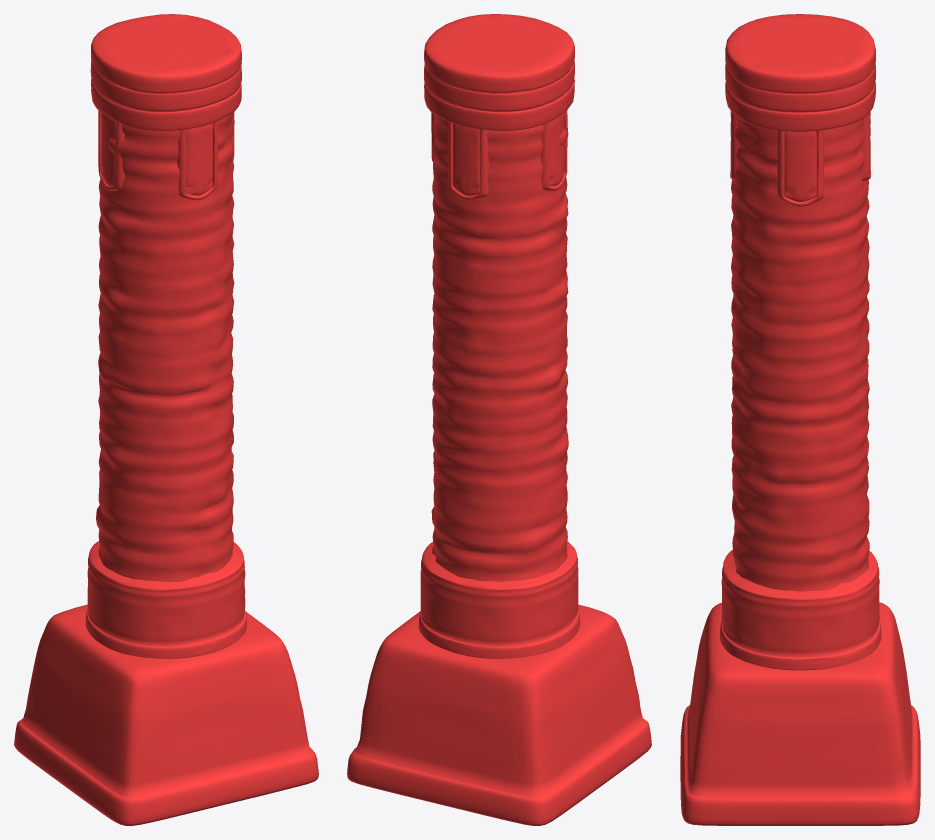
File: pillar.FBX
The picture shows the model from 3 angles, left to right: view 1: azimuth 30°, elevation 25°; view 2: azimuth 150°, elevation 25°; view 3: azimuth 270°, elevation 25°; orthographic projection.
Visible parts, largest first — view 1: pillar; view 2: pillar; view 3: pillar.
Part boxes in pixels (left/top/right/bottom): pillar: left=14, top=14, right=318, bottom=825; pillar: left=347, top=14, right=651, bottom=825; pillar: left=680, top=14, right=920, bottom=825.
Size of the model in its own units: 0.5835 by 1.97 by 0.5835.
